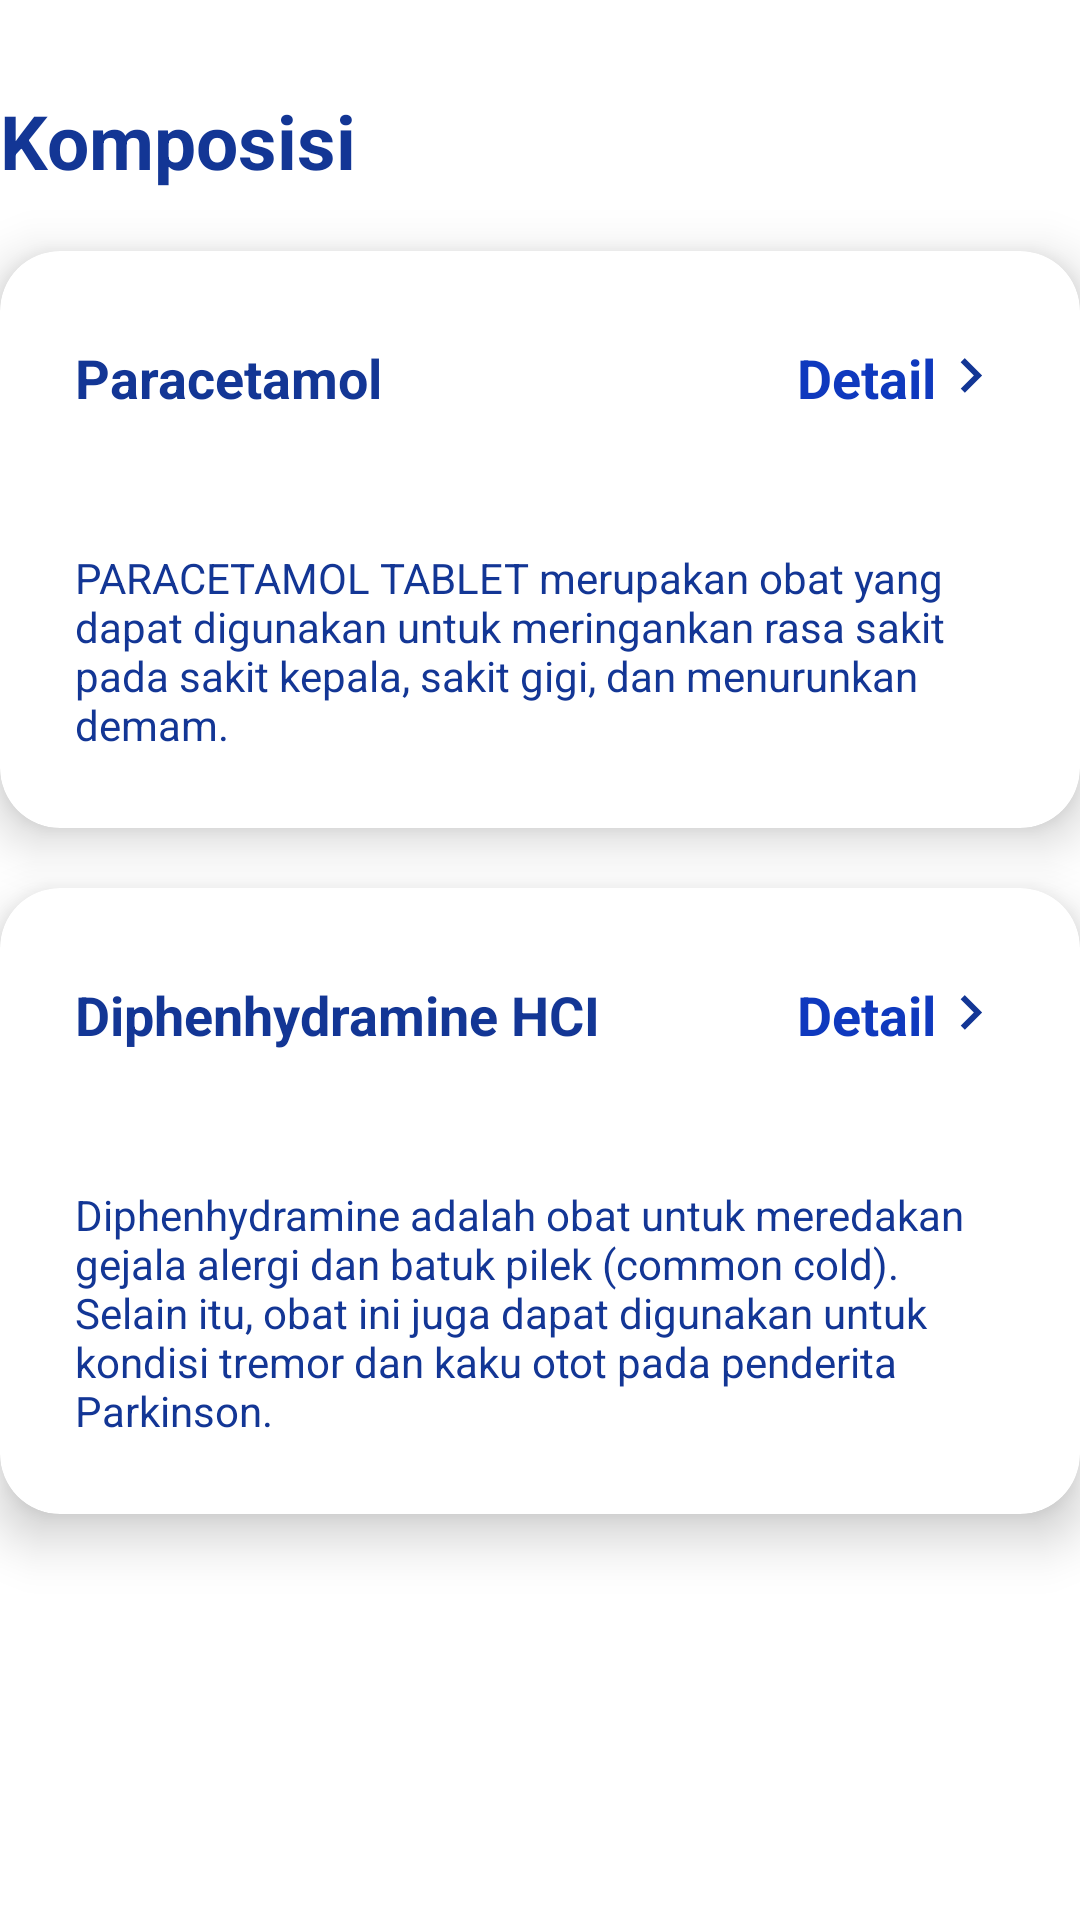

Where icons sit on this 1080 x 1920 app screen, as (x1, y1, x2, y2):
keyboard arrow right: (960, 358, 982, 393), (960, 995, 982, 1030)
